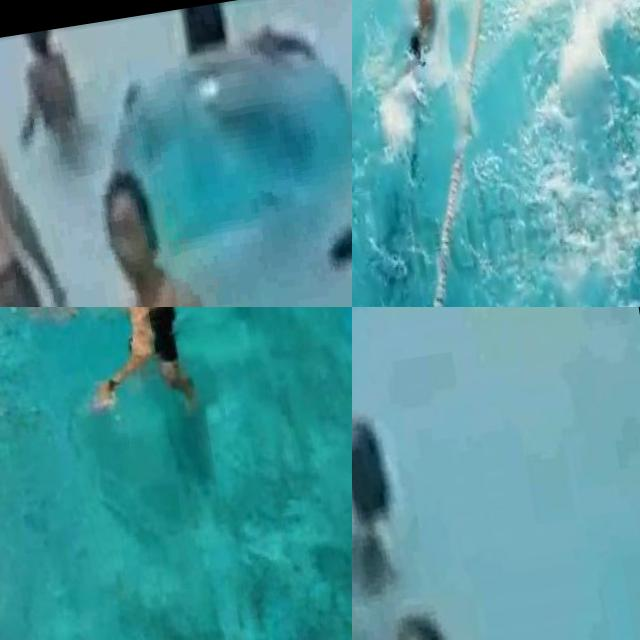drowning: (352, 402, 431, 616), (295, 100, 352, 289)
swimming: (20, 307, 209, 465), (62, 174, 243, 307), (0, 35, 77, 307), (15, 22, 121, 182), (373, 0, 471, 56), (386, 601, 501, 640)
